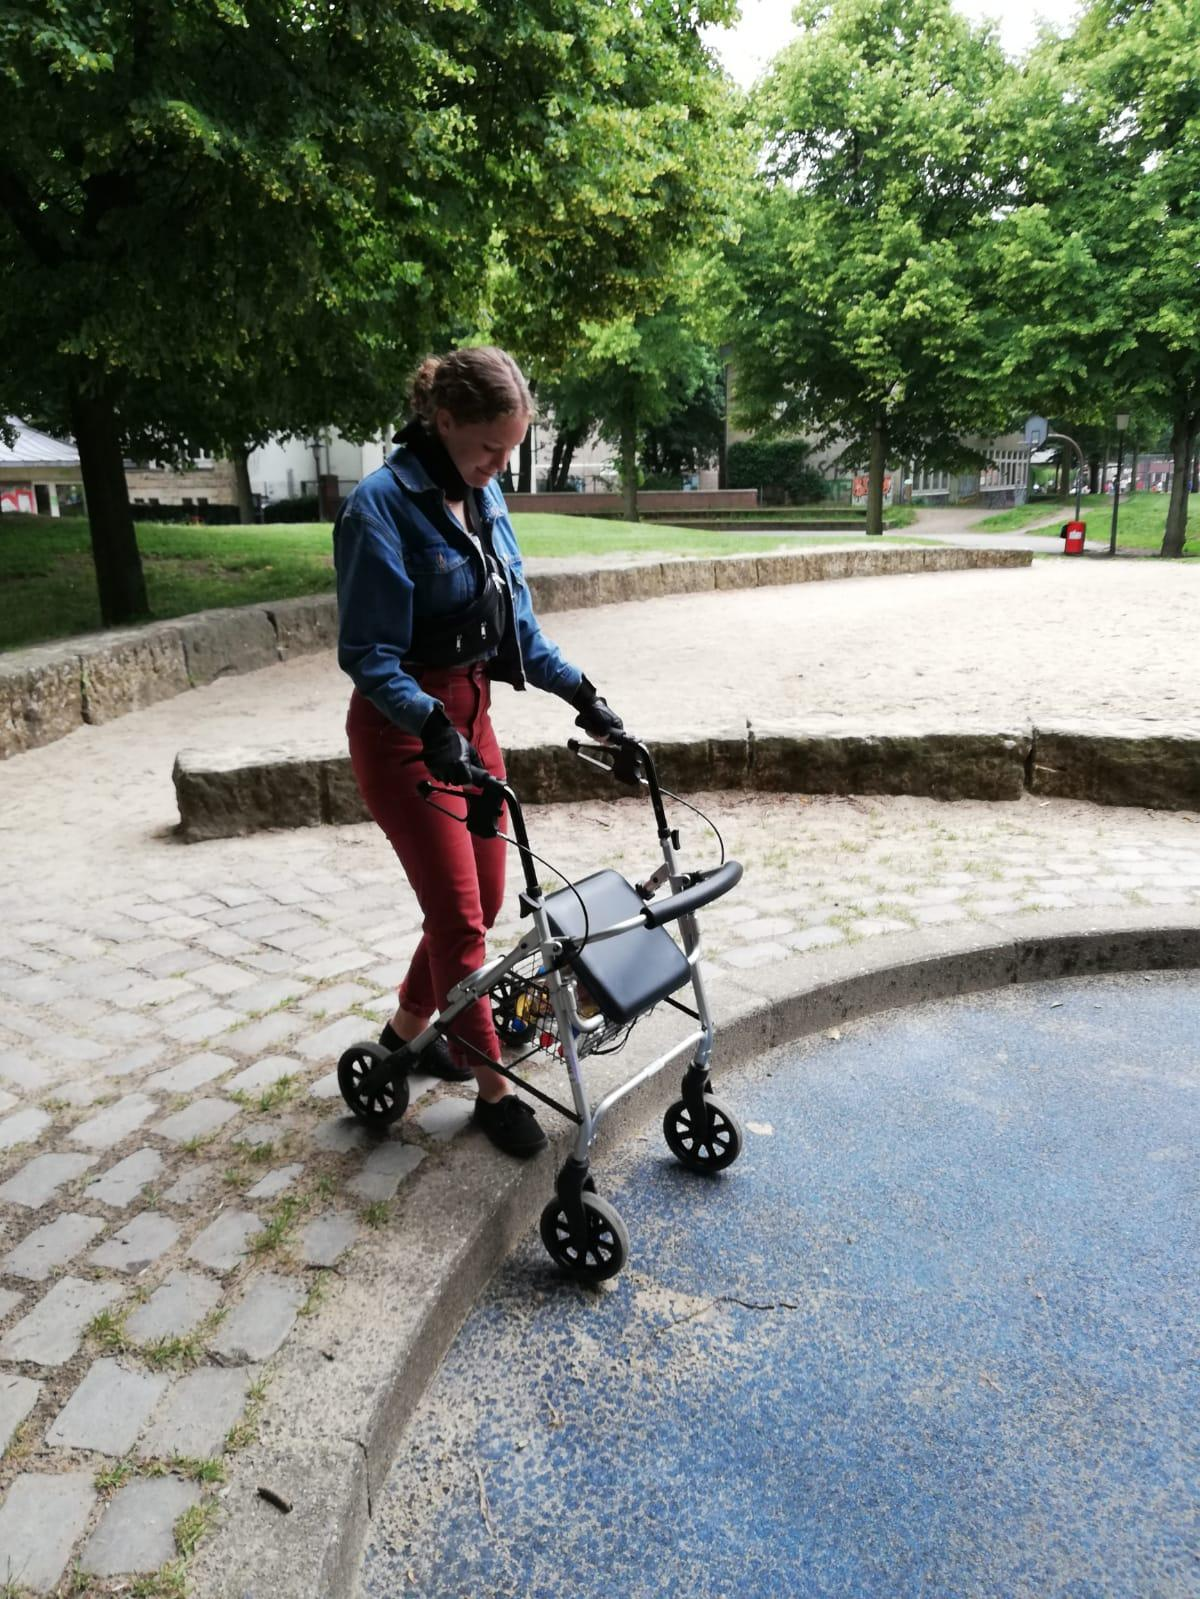walking_frame: (334, 347, 742, 1280)
